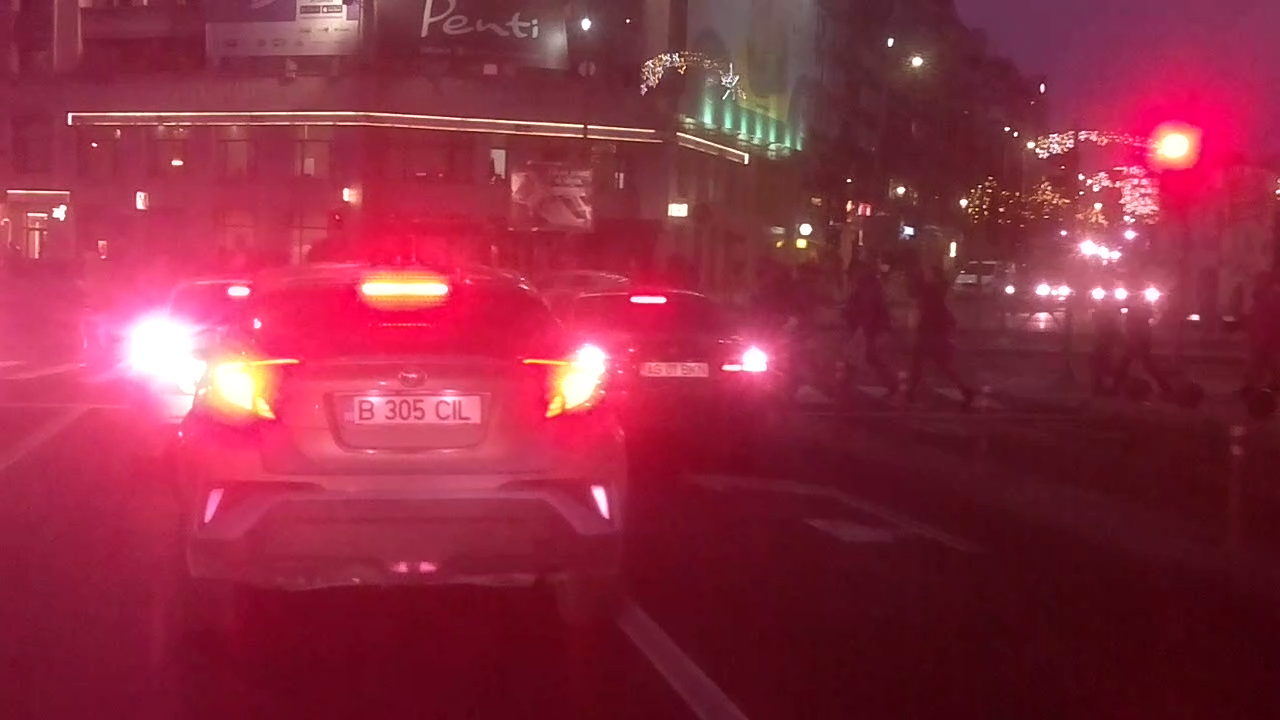license-plate: (335, 391, 487, 428)
